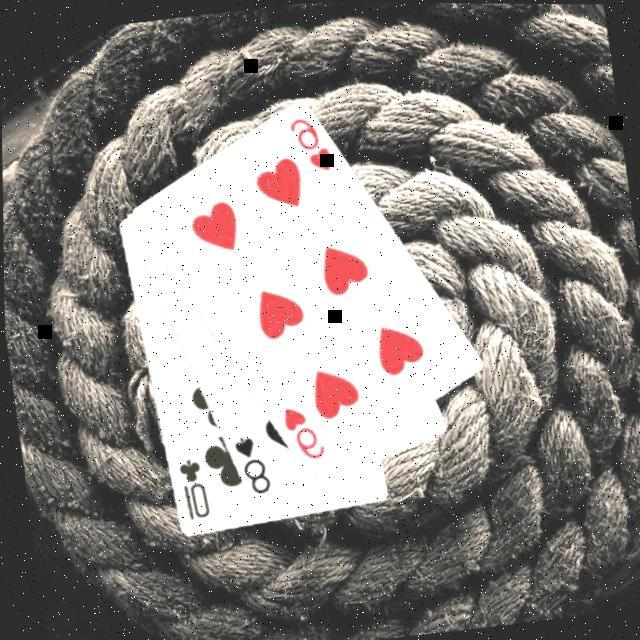10C: (171, 452, 212, 522)
6H: (284, 109, 336, 176), (277, 397, 328, 464)
8S: (227, 427, 275, 497)
